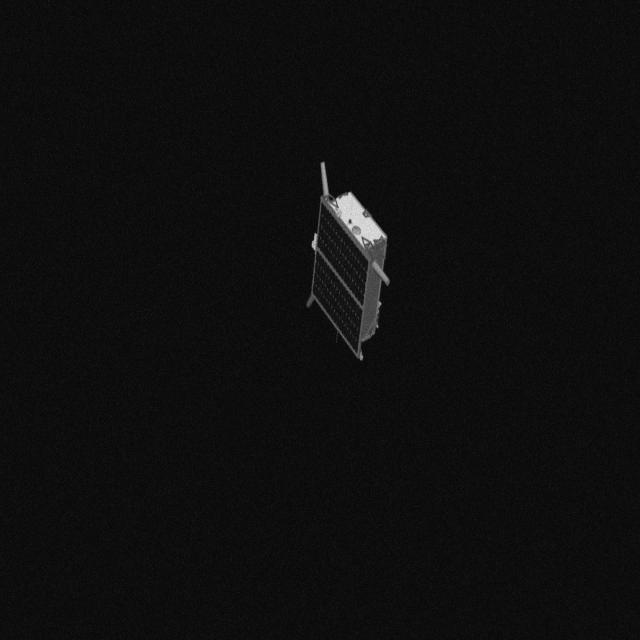medium_debris: (284, 146, 410, 370)
